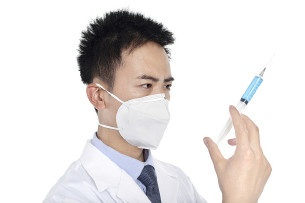Mask: (110, 70, 175, 136)
